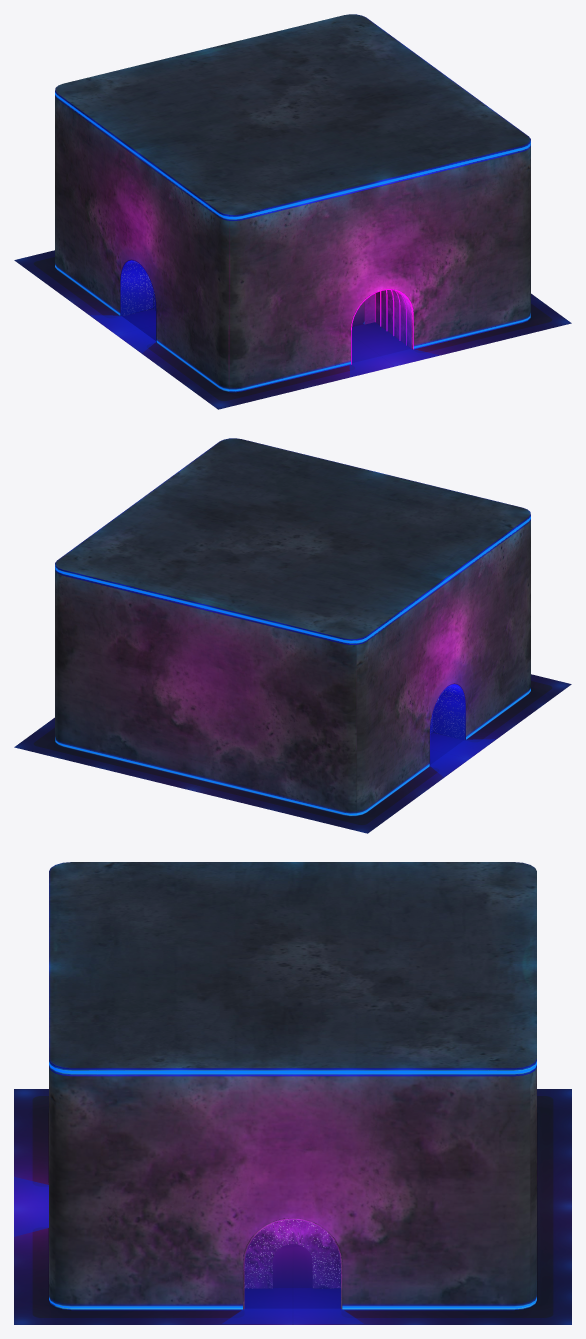
The model's file is mainstructure.glb.
3 views of the same model, one above another, from view 1: azimuth 30°, elevation 25°; view 2: azimuth 150°, elevation 25°; view 3: azimuth 270°, elevation 25° (orthographic). The views are drawn at different scales.
Visible parts, largest first — view 1: Walls, Roof, Floor3, EntranceGradients.004, Entrance.004, Entrance, Roof.001, Walls.001; view 2: Walls, Roof, Floor3, EntranceGradients.004, Entrance, Roof.001, Walls.001; view 3: Walls, Roof, Floor3, EntranceGradients.004, Entrance, Roof.001, Walls.001.
Boxes of the visible parts, <box> form: Walls: <box>55,96,530,392</box>; Roof: <box>55,14,530,220</box>; Floor3: <box>14,250,571,409</box>; EntranceGradients.004: <box>90,267,438,376</box>; Entrance.004: <box>351,289,413,364</box>; Entrance: <box>120,259,156,342</box>; Roof.001: <box>55,93,530,219</box>; Walls.001: <box>55,265,530,390</box>; Walls: <box>55,520,530,816</box>; Roof: <box>55,438,530,644</box>; Floor3: <box>14,674,571,833</box>; EntranceGradients.004: <box>430,691,495,776</box>; Entrance: <box>429,683,465,766</box>; Roof.001: <box>55,517,530,643</box>; Walls.001: <box>55,689,530,814</box>; Walls: <box>49,1067,536,1310</box>; Roof: <box>49,862,536,1076</box>; Floor3: <box>14,1089,571,1324</box>; EntranceGradients.004: <box>14,1177,363,1323</box>; Entrance: <box>243,1218,342,1309</box>; Roof.001: <box>49,1062,536,1073</box>; Walls.001: <box>49,1298,536,1308</box>.
Size of what is drawn, in the model's own units: 32 by 15.39 by 32.
28 materials, 22 textured.
